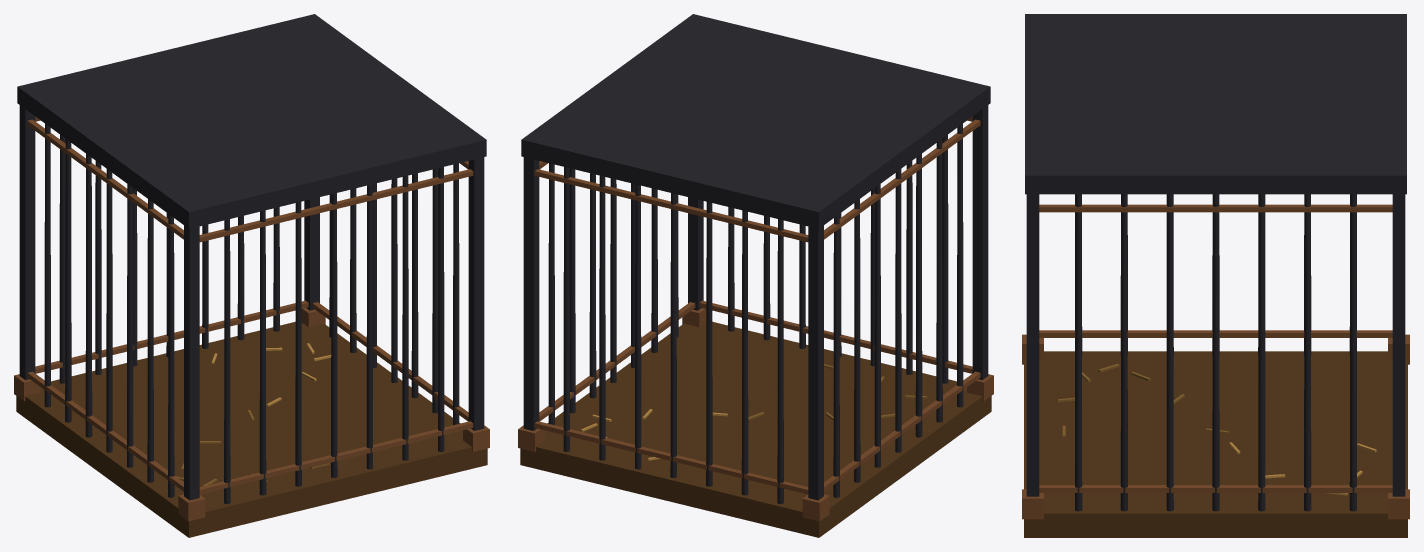
Rendered from mia-cage.glb.
3 views of the same model, side by side, from view 1: azimuth 30°, elevation 25°; view 2: azimuth 150°, elevation 25°; view 3: azimuth 270°, elevation 25° (orthographic). The views are drawn at different scales.
Visible parts, largest first — view 1: Body_iron, Body_wood, Body_rust; view 2: Body_iron, Body_wood, Body_rust; view 3: Body_iron, Body_wood, Body_rust.
Boxes of the visible parts, box(x1,y1,x2,y2) form: Body_iron: box(17, 14, 486, 504); Body_wood: box(16, 321, 487, 537); Body_rust: box(14, 116, 489, 521); Body_iron: box(521, 14, 990, 504); Body_wood: box(520, 321, 991, 537); Body_rust: box(518, 116, 993, 521); Body_iron: box(1025, 14, 1406, 511); Body_wood: box(1024, 351, 1407, 537); Body_rust: box(1022, 204, 1409, 519).
Size of the model in its own units: 2.22 by 2.29 by 2.22.
